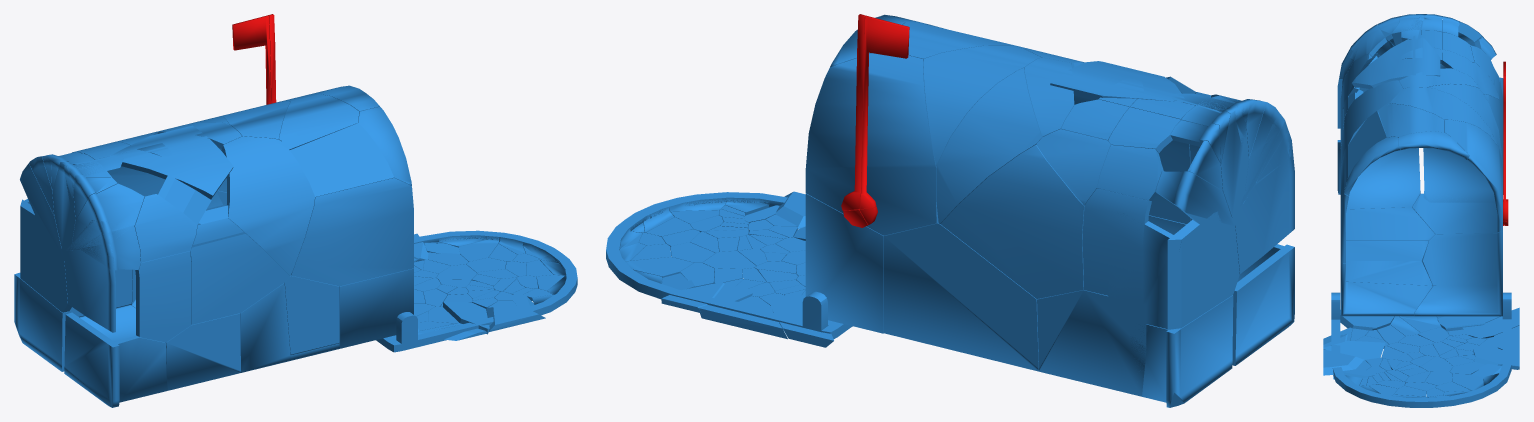
File: breaked -letter box .fbx
3 renders of one model, left to right at view 1: azimuth 30°, elevation 25°; view 2: azimuth 150°, elevation 25°; view 3: azimuth 270°, elevation 25°, orthographic. The views are drawn at different scales.
Visible parts, largest first — view 1: box_cell.020, box_cell.014, box_cell.026, box_cell.043, box_cell.001, box_cell.072, box_cell.019, box_cell.033, box_cell.034, box_cell.018, box_cell.012, box_cell.029 (+28 smaller); view 2: box_cell.005, box_cell.004, box_cell.039, box_cell.046, box_cell.057, box_cell.017, box_cell.006, box_cell.056, box_cell.025, box_cell.037, box_cell.026, box_cell.036 (+31 smaller); view 3: box_cell.004, box_cell.026, box_cell.056, box_cell.033, box_cell.017, flatbox_cell.069, box_cell.034, box_cell.047, box_cell.072, box_cell.005, box_cell.037, box_cell.012 (+64 smaller).
Part boxes in pixels (x1,y1,x2,y2): box_cell.020: (291,178,413,286); box_cell.014: (223,136,314,275); box_cell.026: (64,312,166,407); box_cell.043: (190,234,289,324); box_cell.001: (282,123,394,196); box_cell.072: (110,125,233,199); box_cell.019: (135,251,191,342); box_cell.033: (339,268,413,348); box_cell.034: (165,313,240,390); box_cell.018: (134,175,211,262); box_cell.012: (284,275,339,354); box_cell.029: (240,283,290,372); box_cell.005: (805,53,938,235); box_cell.004: (883,223,1038,371); box_cell.039: (940,145,1084,298); box_cell.046: (1037,290,1146,396); box_cell.057: (1108,211,1239,329); box_cell.017: (805,193,885,333); box_cell.006: (936,68,1042,223); box_cell.056: (1130,295,1233,407); box_cell.025: (1082,188,1151,303); box_cell.037: (923,45,1041,166); box_cell.026: (1232,244,1294,365); box_cell.036: (1235,130,1294,273); box_cell.004: (1422,233,1497,285); box_cell.026: (1337,140,1420,209); box_cell.056: (1423,141,1503,202); box_cell.033: (1340,263,1432,316); box_cell.017: (1414,231,1502,316); flatbox_cell.069: (1323,292,1511,407); box_cell.034: (1346,207,1435,240); box_cell.047: (1412,193,1497,234); box_cell.072: (1352,35,1440,88); box_cell.005: (1444,119,1502,231); box_cell.037: (1390,87,1498,147); box_cell.012: (1346,261,1432,285).
Size of the model in its own units: 313 by 165 by 125.
